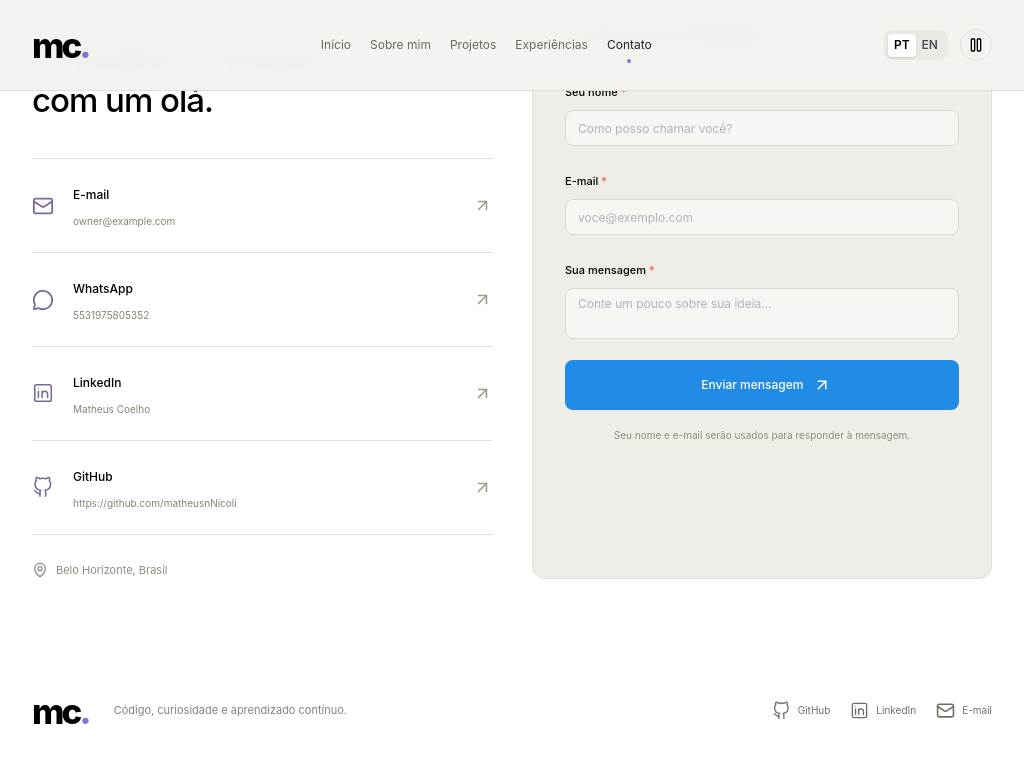
Test: Portfólio › validates fields, reports delivery failure, and then confirms successful sending
(page scrolled)
Click the button "Enviar mensagem": (762, 385) [565,360,959,410]
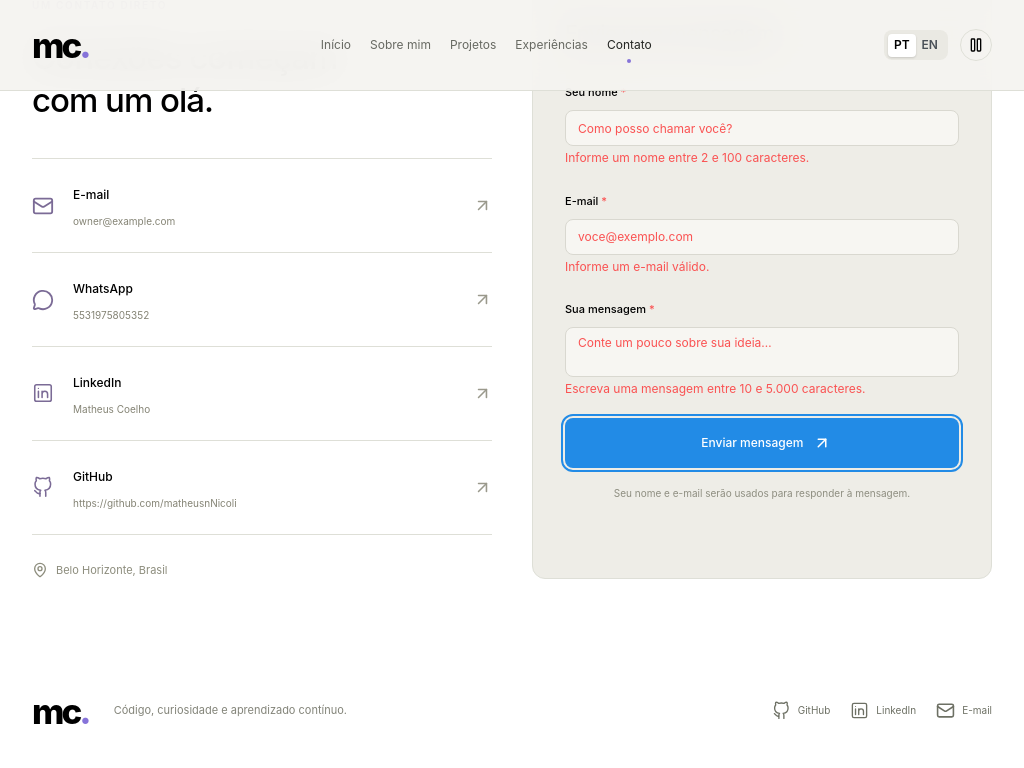
Now the text "Informe um e-mail válido." is shown, box [565,259,709,274]
In the field labelled "Seu nome *": (762, 128) [565,110,959,146], type "Pessoa Teste"
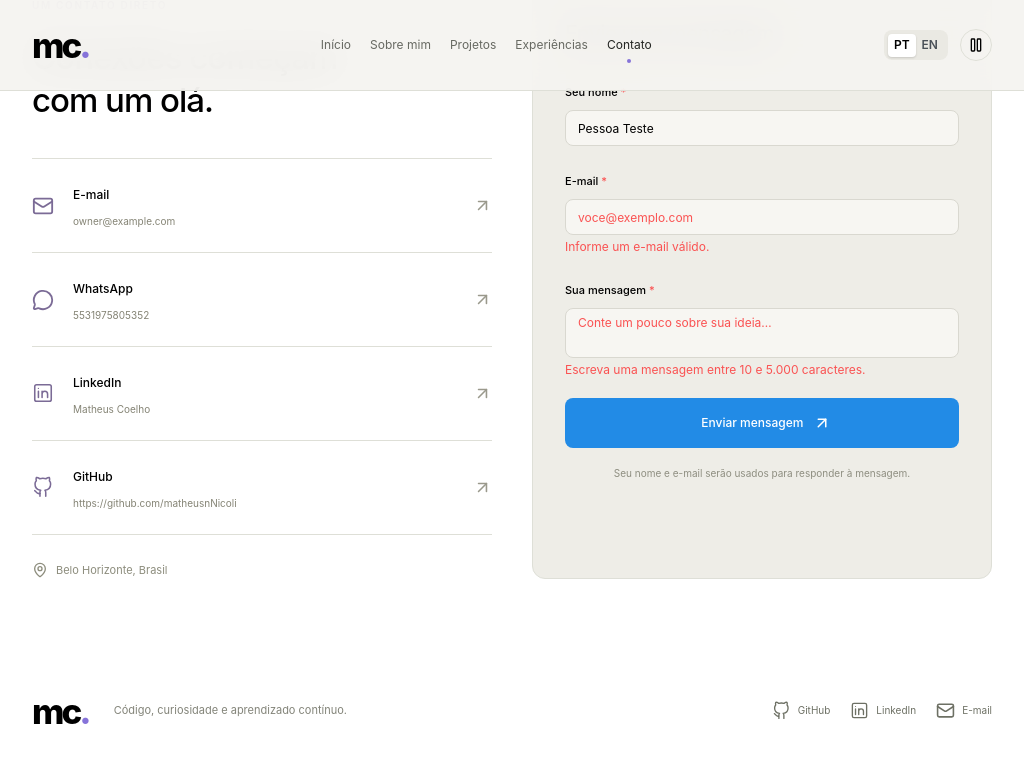
In the field labelled "E-mail *": (762, 217) [565,199,959,235], type "visitor@example.com"
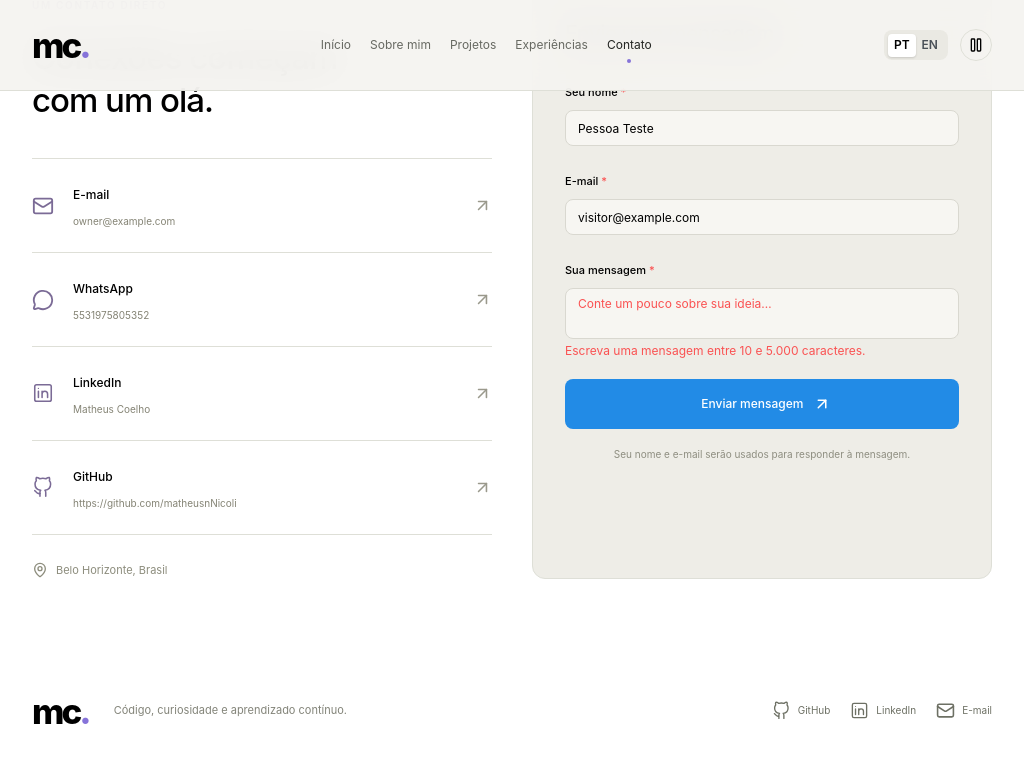
In the text box labelled "Sua mensagem *": (762, 314) [565,288,959,339], type "Quero conversar sobre um projeto real."
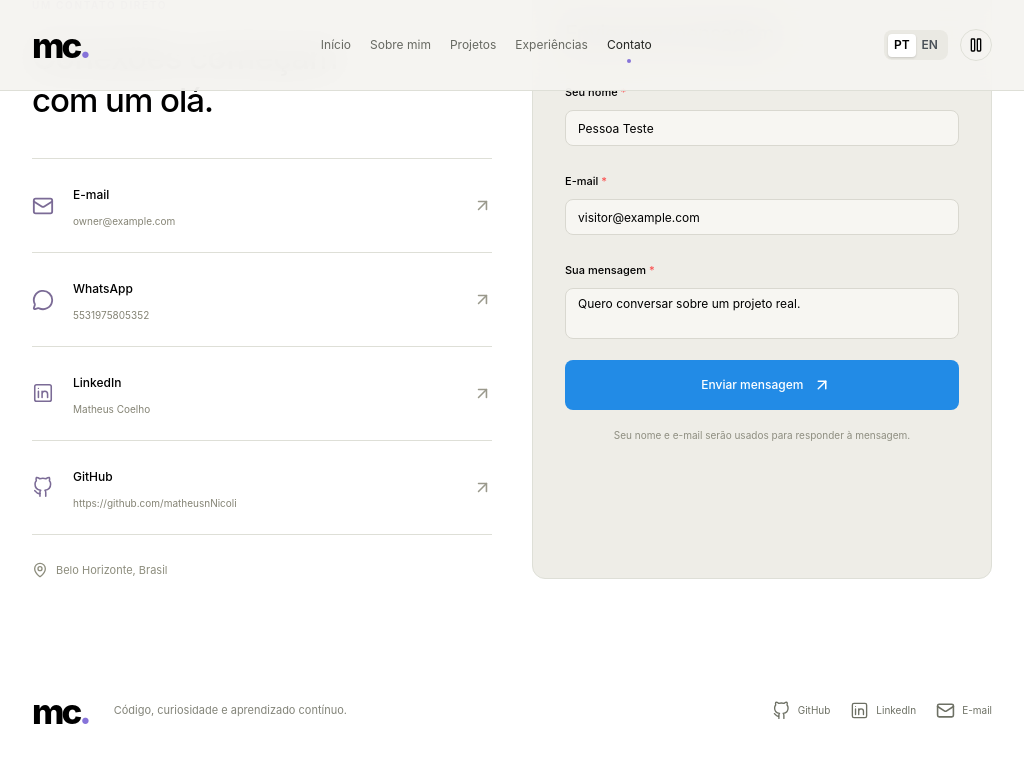
Click the button "Enviar mensagem": (762, 385) [565,360,959,410]
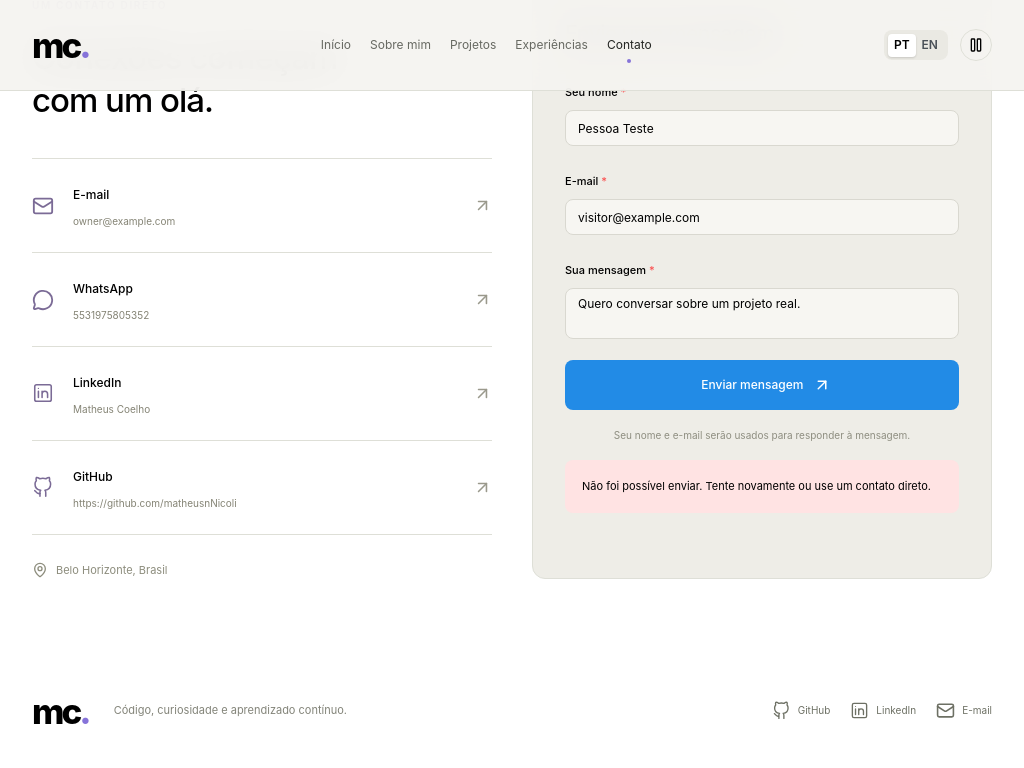
Now the message shows "Não foi possível enviar", box [582,479,931,493]
Click the button "Enviar mensagem": (762, 385) [565,360,959,410]
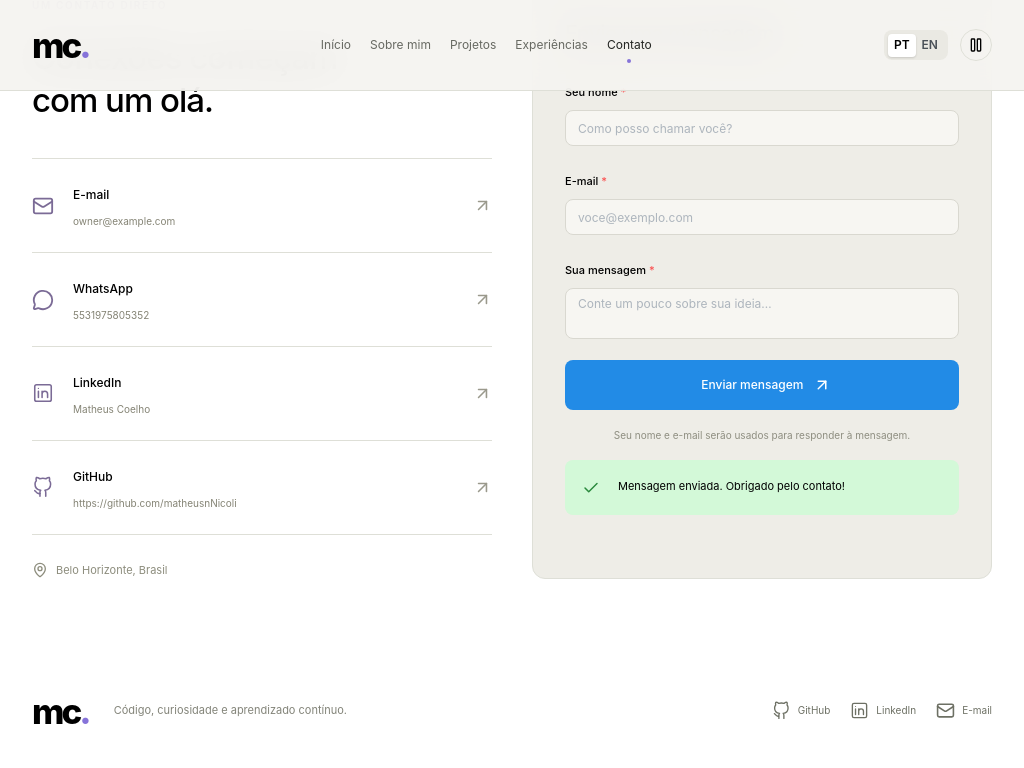
Now the message shows "Mensagem enviada", box [618,479,845,493]
Now the text box labelled "Sua mensagem *" is empty, box [565,288,959,339]
